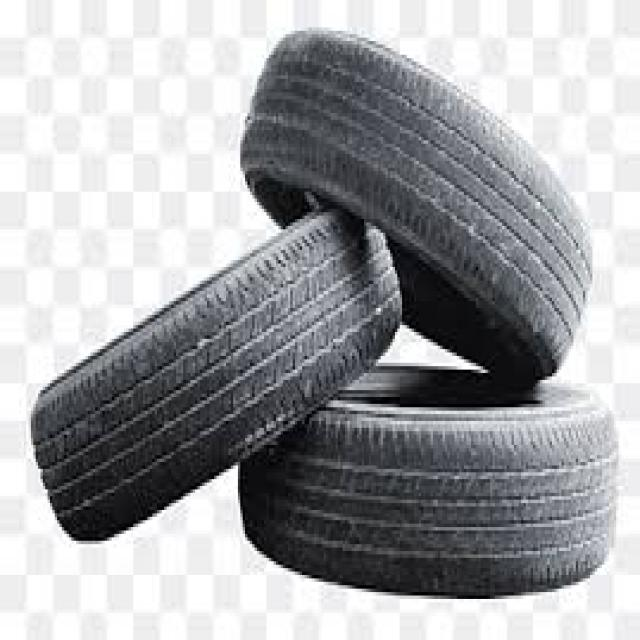Rubber -Non-Biodegradable but Recyclable-: (30, 34, 618, 612)
